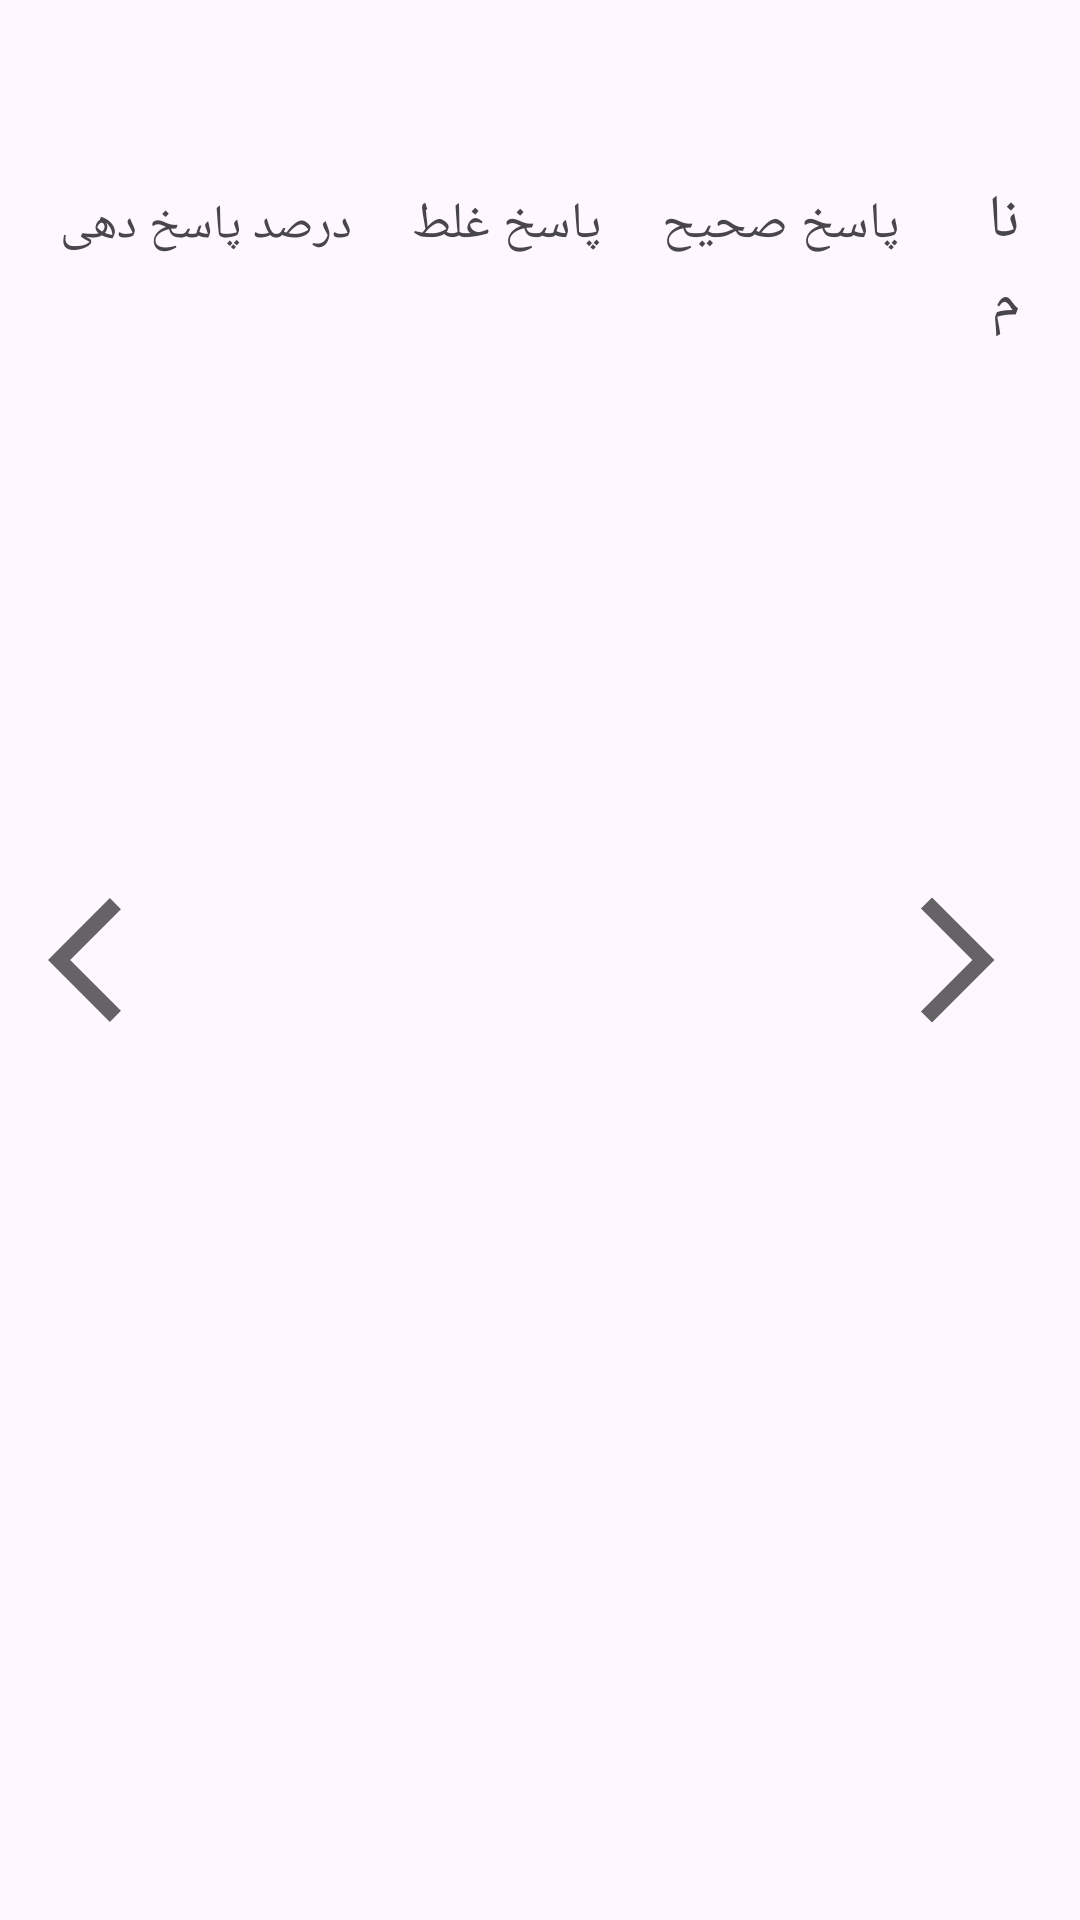

Named icons in this screenshot (1080w x 1920h) and their centers, point (x, y):
arrow back: point (84, 960)
arrow forward: point (957, 960)
